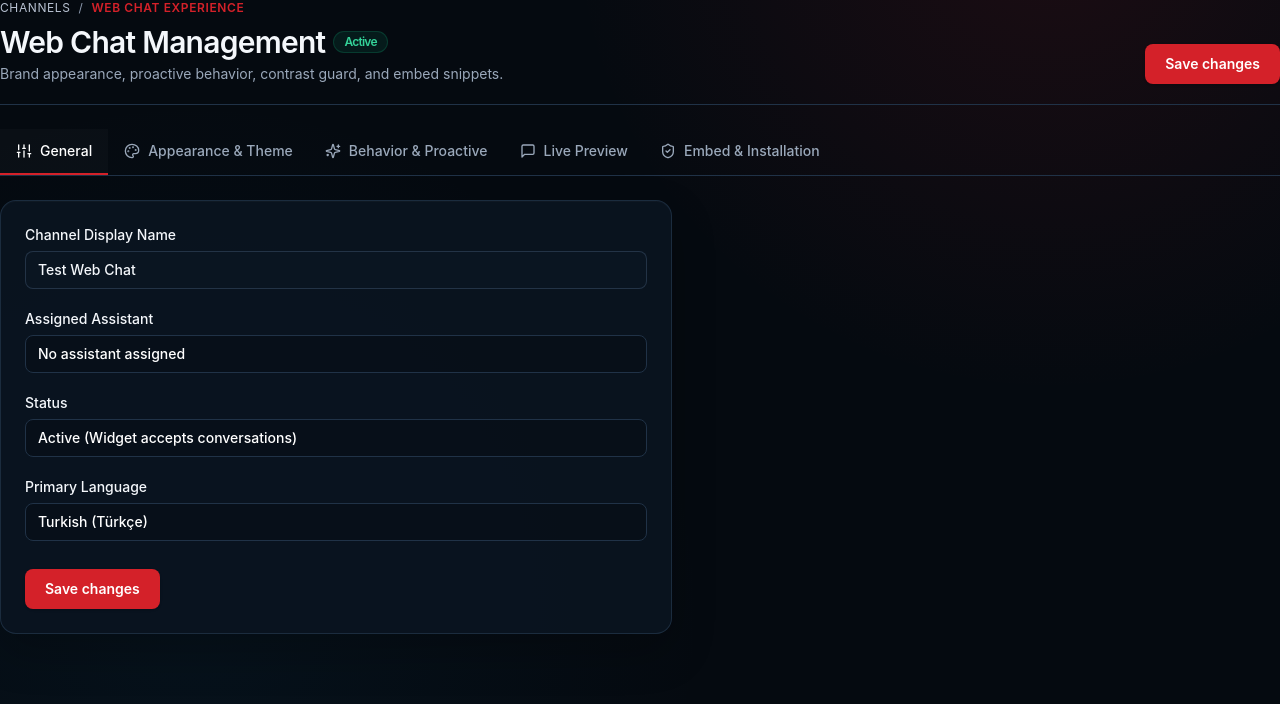
Test: WebChatManagement Component › visibly provides direct tenant logo management, launcher label, and supported specs in Appearance & Theme
// Navigate to Appearance & Theme
Click the button "Appearance & Theme" at (208, 152), box [108, 129, 309, 175]
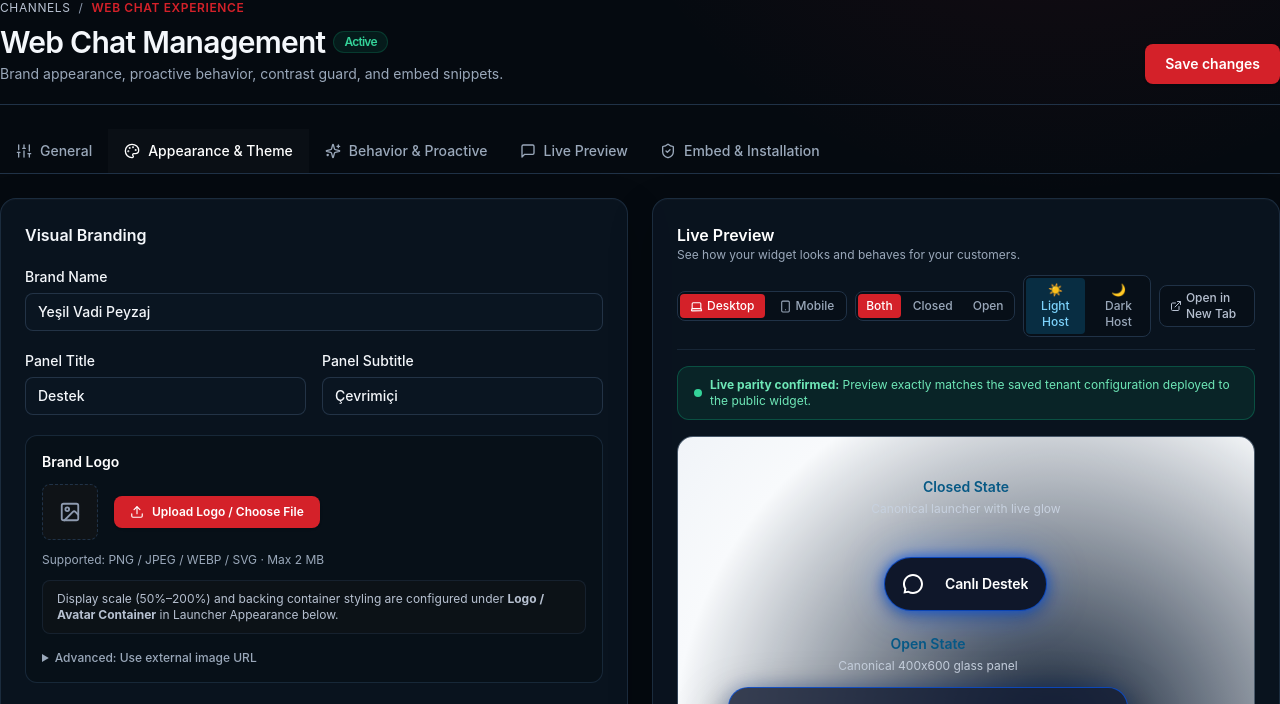
expect the element with test id "brand-logo-section" is shown: met, box [25, 435, 603, 683]
expect the text "Brand Logo" is shown: met, box [42, 452, 119, 472]
expect the button "Upload Logo / Choose File" is shown: met, box [114, 496, 320, 528]
